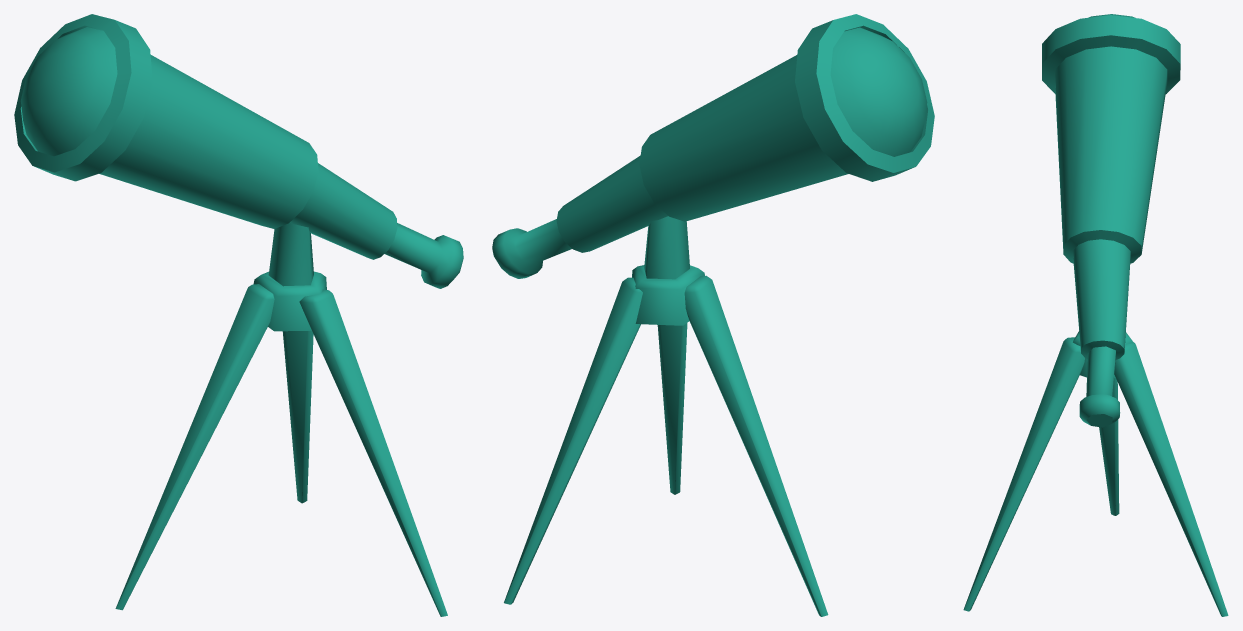
Rendered from TeleScope.obj.
The picture shows the model from 3 angles, left to right: view 1: azimuth 30°, elevation 25°; view 2: azimuth 150°, elevation 25°; view 3: azimuth 270°, elevation 25°; orthographic projection. The views are drawn at different scales.
Parts seen in each view (by area): view 1: TeleScope; view 2: TeleScope; view 3: TeleScope.
Boxes of the visible parts, x1=… form: TeleScope: x1=14, y1=14, x2=463, y2=616; TeleScope: x1=492, y1=14, x2=934, y2=616; TeleScope: x1=963, y1=14, x2=1228, y2=616.
Size of the model in its own units: 93.6 by 125 by 60.69.
